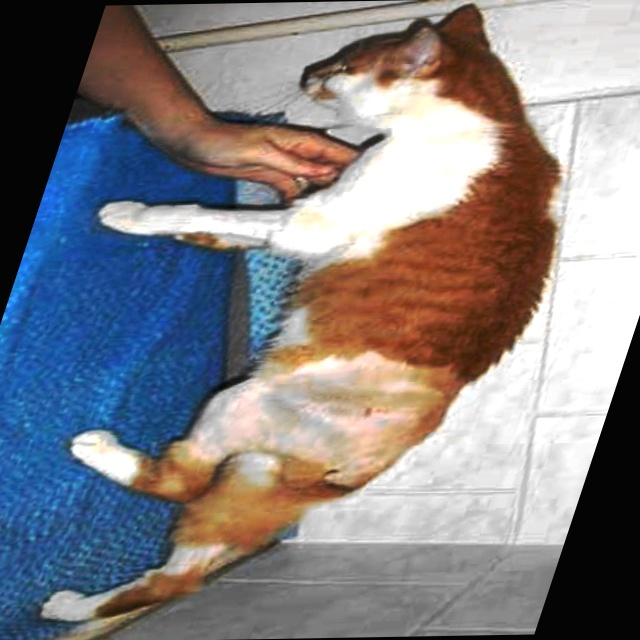hairloss: (238, 91, 485, 246), (189, 360, 457, 462)
